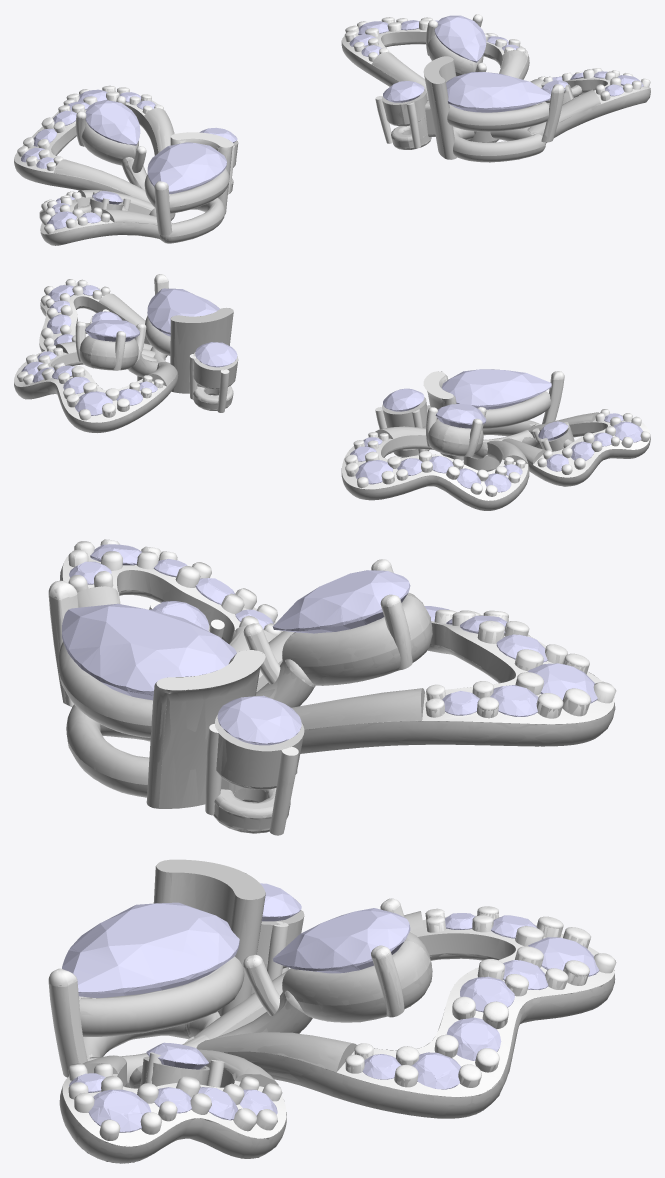
The picture shows the model from 3 angles, top to bottom: view 1: azimuth 30°, elevation 25°; view 2: azimuth 150°, elevation 25°; view 3: azimuth 270°, elevation 25°; orthographic projection. The views are drawn at different scales.
Visible parts, largest first — view 1: highPolyMesh, lowPolyMesh; view 2: highPolyMesh, lowPolyMesh; view 3: highPolyMesh, lowPolyMesh.
Boxes of the visible parts, left/top/right/bottom form: highPolyMesh: left=14, top=14, right=650, bottom=245; lowPolyMesh: left=14, top=14, right=650, bottom=245; highPolyMesh: left=14, top=274, right=650, bottom=510; lowPolyMesh: left=14, top=274, right=650, bottom=510; highPolyMesh: left=48, top=539, right=616, bottom=1163; lowPolyMesh: left=48, top=539, right=615, bottom=1163.
Bounding box in the file's own units: 0.0331 × 0.0047 × 0.0135.
